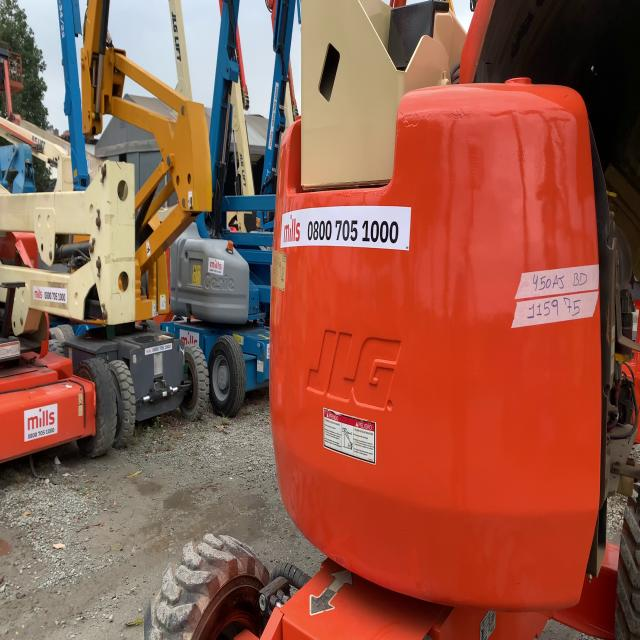Adesivo Longo: (279, 202, 414, 253), (32, 284, 68, 305), (144, 341, 174, 357)
Adesivos: (22, 398, 60, 445), (206, 254, 226, 278)
